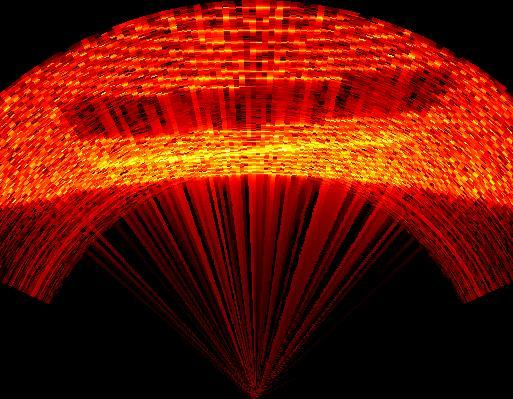pipe: (52, 62, 464, 167)
